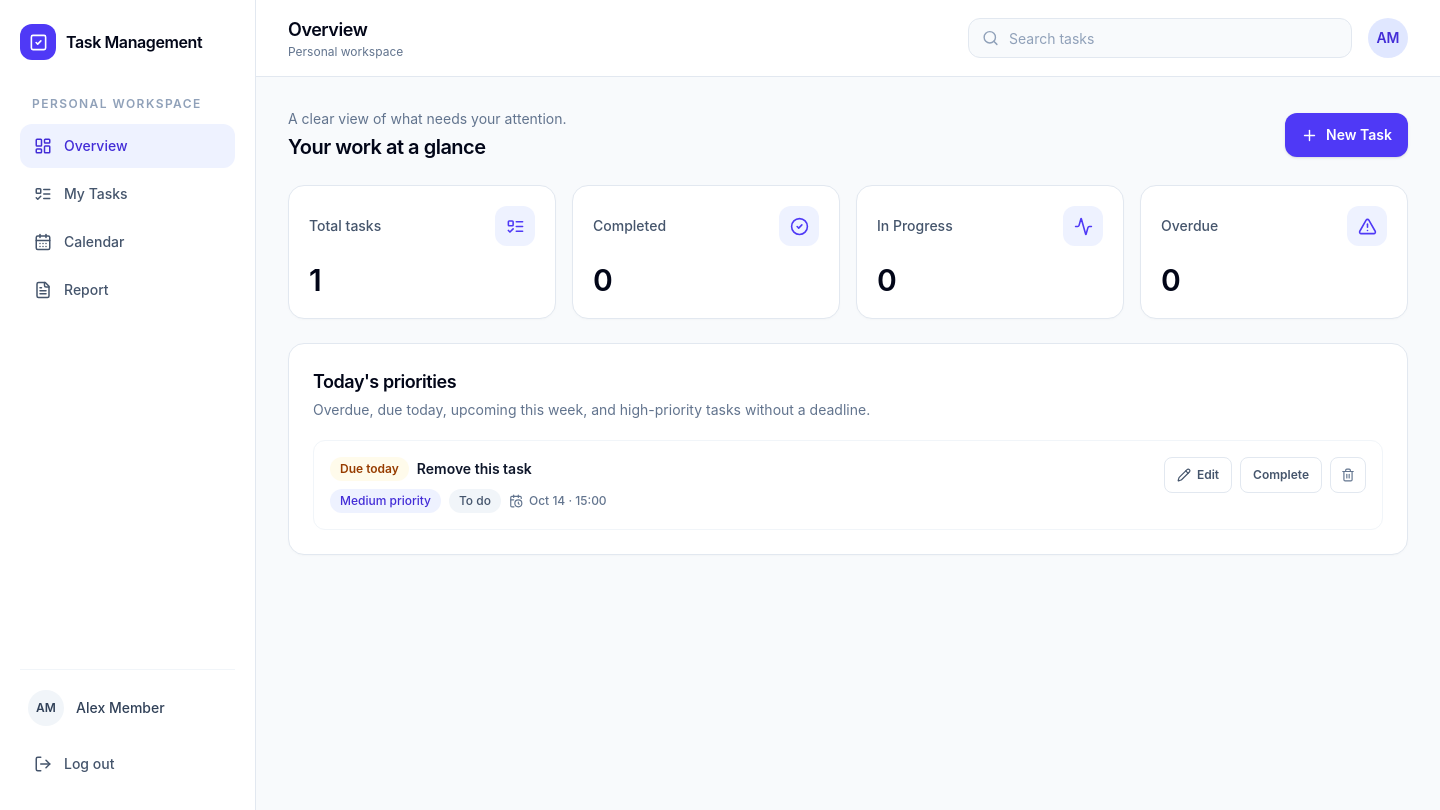
it: dashboard overview › updates totals immediately after a confirmed task deletion
The image size is (1440, 810).
Click the button named "Delete Remove this task" at (1348, 475), box [1330,457,1366,493]
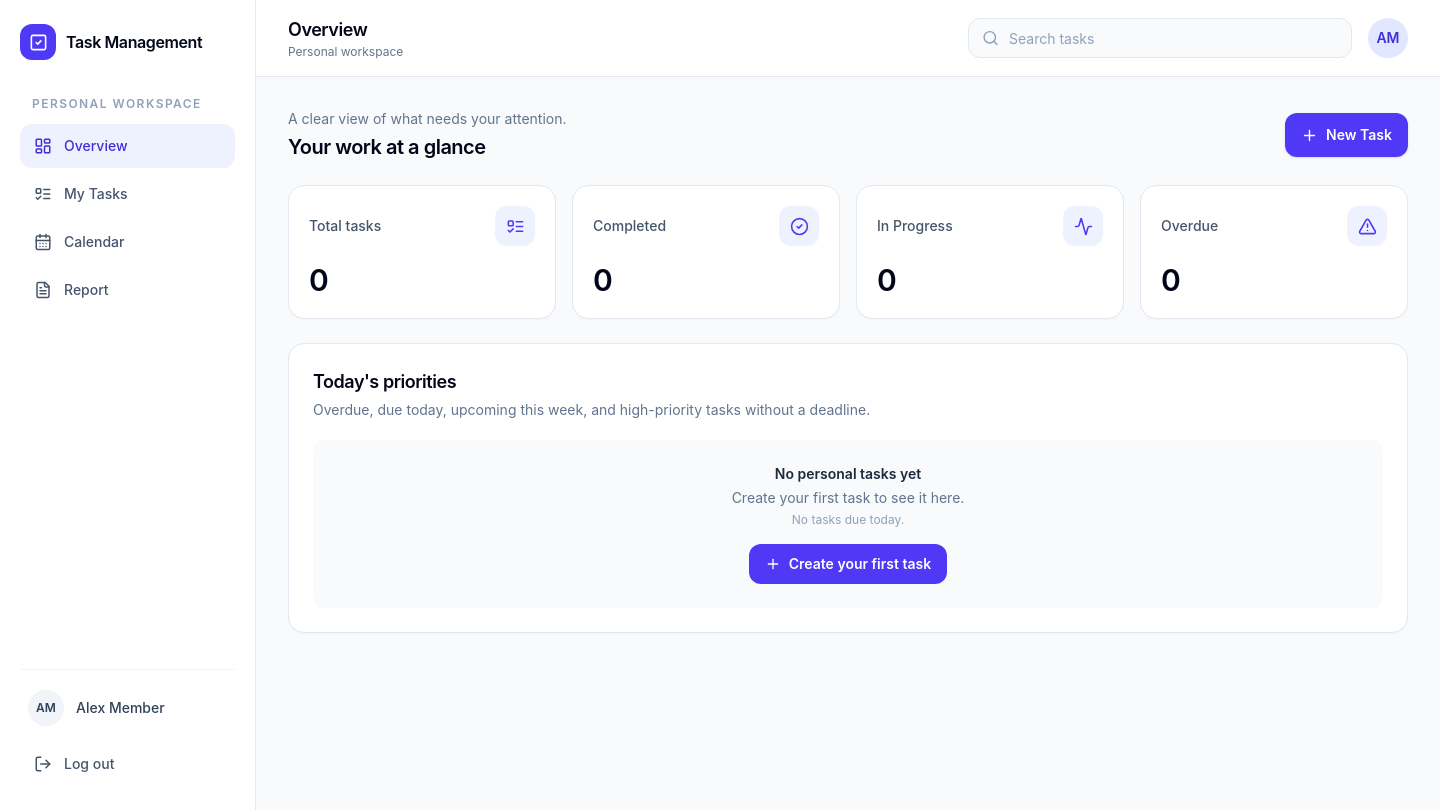
Check: the text "0" below "Total tasks" is shown, box [309,262,328,298]
Check: the heading "No personal tasks yet" is shown, box [775,465,921,482]
